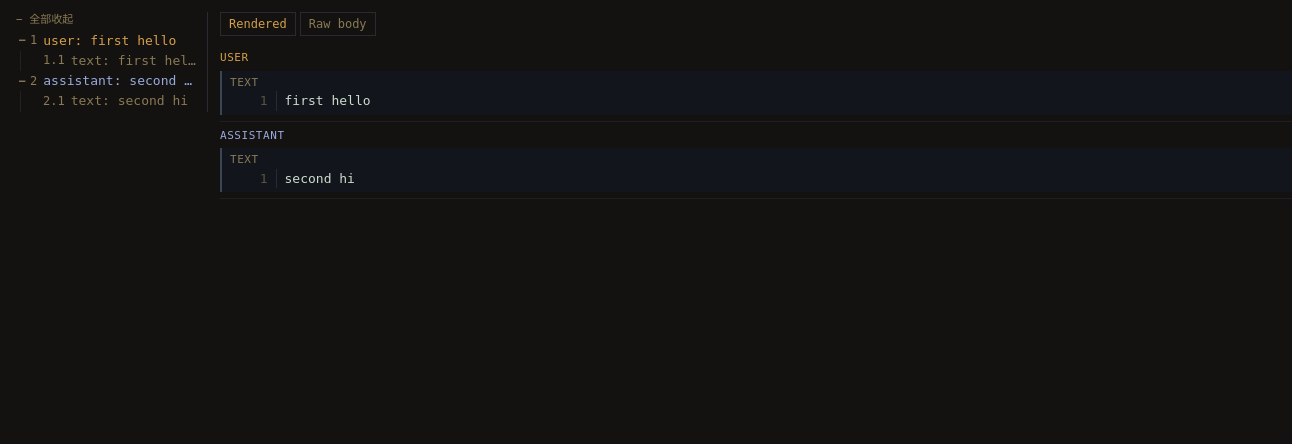
Test: ConvoSegment › toggling back to Rendered restores the conversation view
This screenshot has width=1292, height=444.
Click the button "Raw body": x=338, y=24 [300, 12, 376, 36]
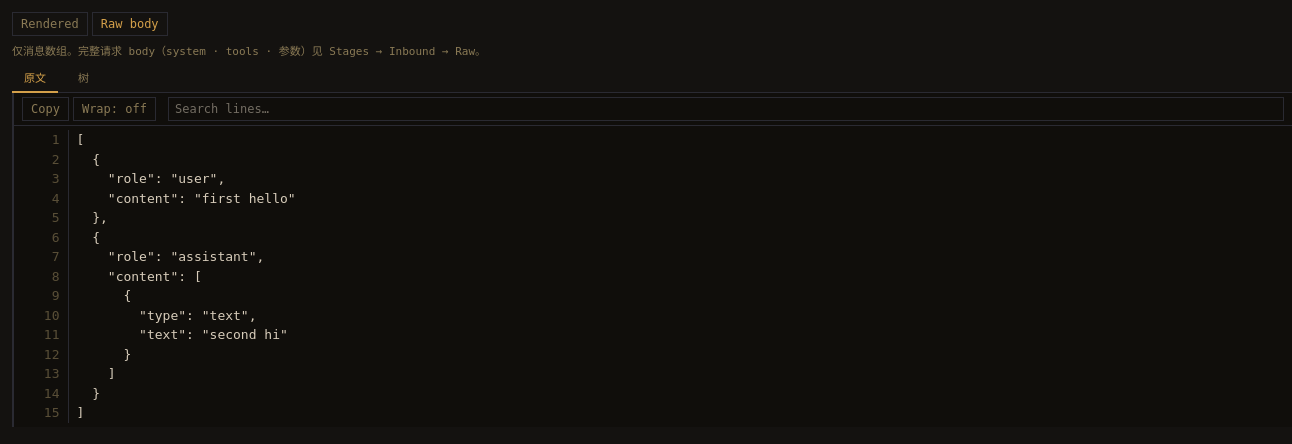
Click the button "Rendered": x=50, y=24 [12, 12, 88, 36]
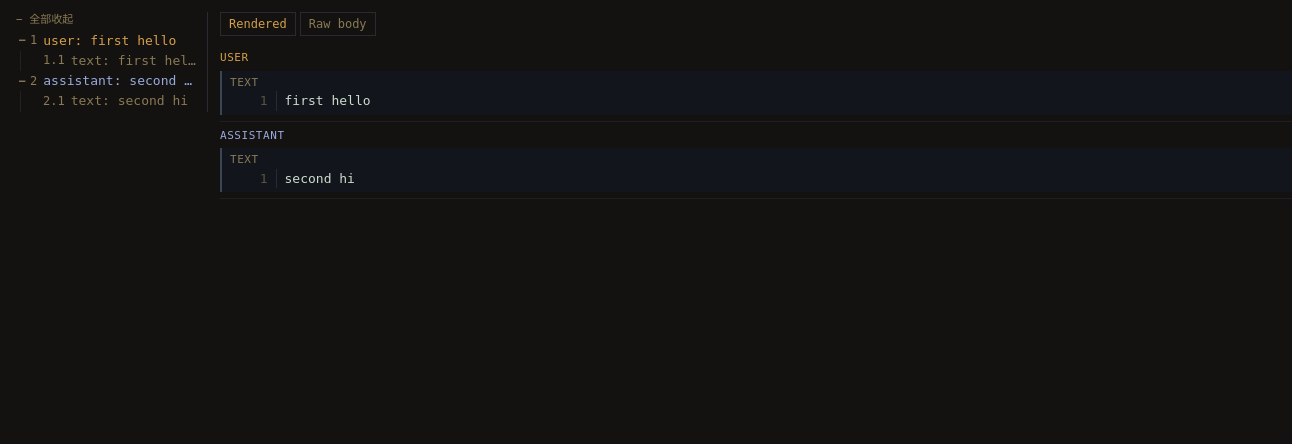
Now the button "user: first hello" is shown, box [43, 30, 203, 51]
Now the navigation bar is shown, box [12, 12, 208, 112]
